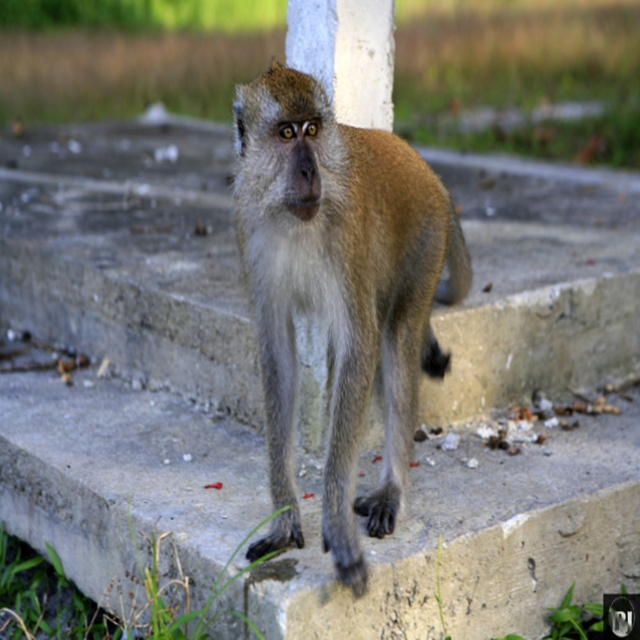Monkey: (223, 59, 462, 585)
